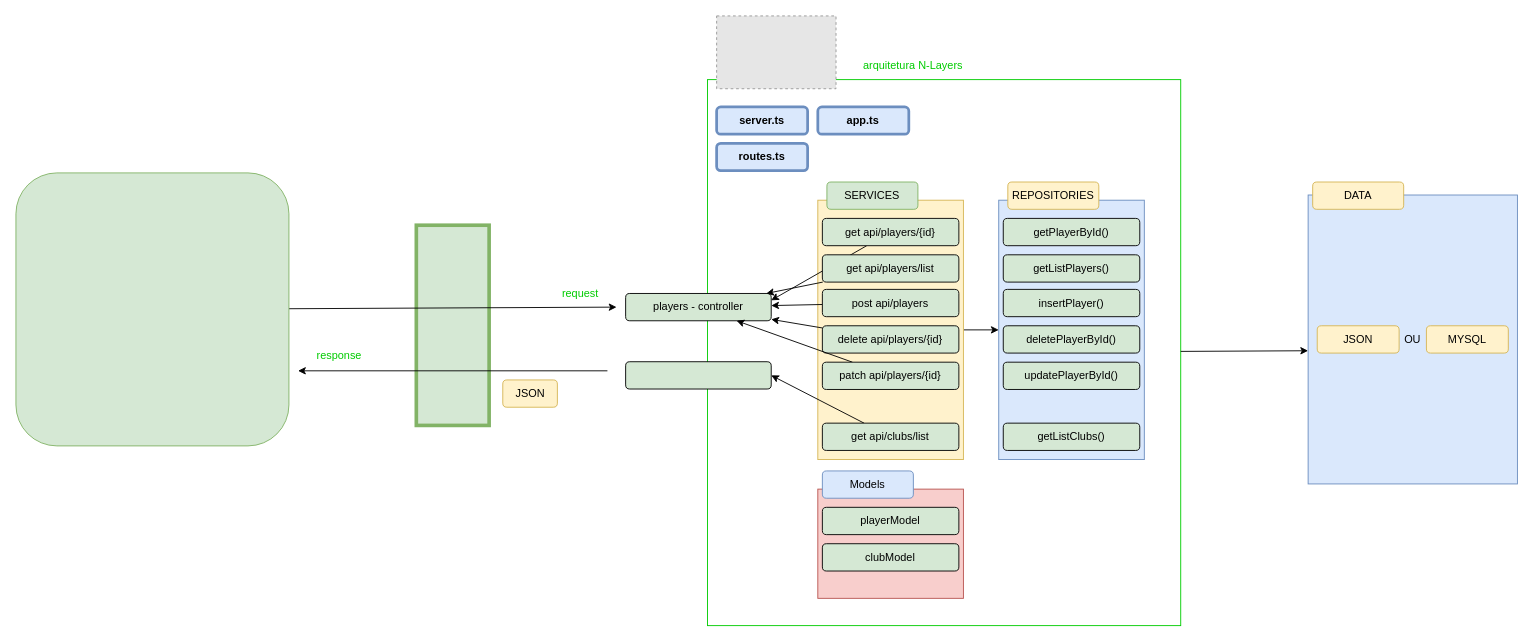
Some shapes in this 1533 by 642 pixel diagram are drawn without their labels. Grey dashed boxes stand in for pictures. The centre of each missing label's shape, as x and y in pixels:
cliente (ex:postman): (152,309)
clubs - controller: (698,375)
porta:3333: (452,325)
